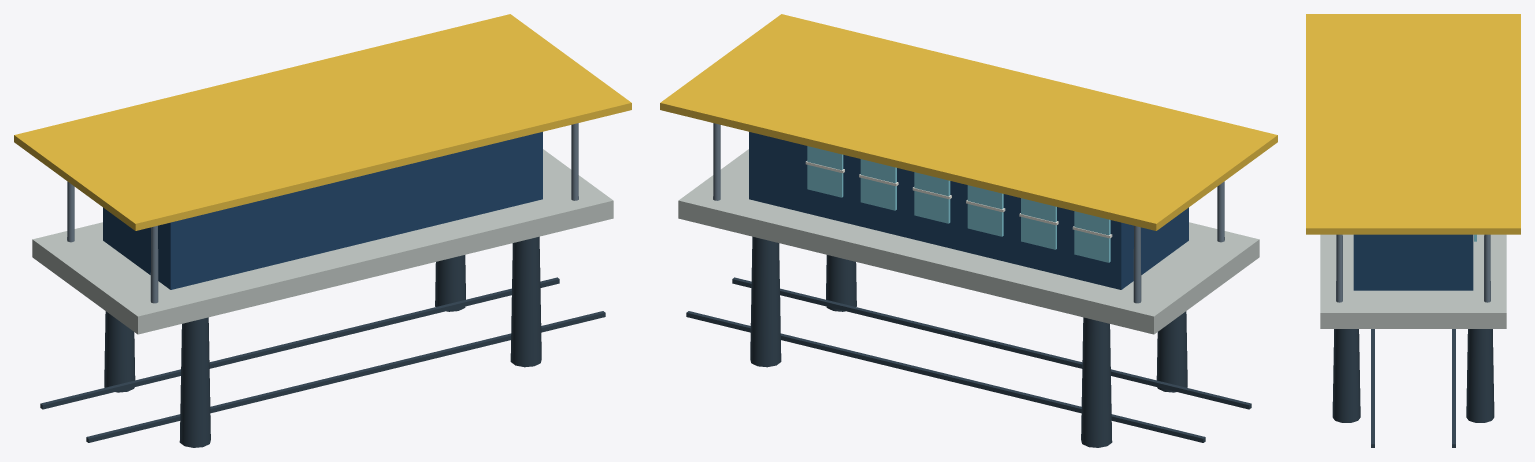
3 views of the same model, side by side, from view 1: azimuth 30°, elevation 25°; view 2: azimuth 150°, elevation 25°; view 3: azimuth 270°, elevation 25° (orthographic). The views are drawn at different scales.
Visible parts, largest first — view 1: platform-roof, station-hall, platform, support-pillar (×4), rail (×2), station-column (×2); view 2: platform-roof, platform, station-hall, support-pillar (×4), window (×6), rail (×2), station-column (×2); view 3: platform-roof, platform, station-hall, support-pillar (×2), station-column (×2), rail (×2).
Part boxes in pixels (<box>): platform-roof: <box>14,14,631,230</box>; station-hall: <box>103,132,542,289</box>; platform: <box>32,149,613,334</box>; support-pillar (×4): <box>104,236,541,447</box>; rail (×2): <box>40,277,605,442</box>; station-column (×2): <box>150,123,578,303</box>; platform-roof: <box>660,14,1277,230</box>; platform: <box>678,149,1259,334</box>; station-hall: <box>749,132,1188,289</box>; support-pillar (×4): <box>750,236,1187,447</box>; window (×6): <box>807,146,1110,262</box>; rail (×2): <box>686,277,1251,442</box>; station-column (×2): <box>713,123,1141,303</box>; platform-roof: <box>1306,14,1520,234</box>; platform: <box>1320,234,1506,328</box>; station-hall: <box>1353,234,1473,290</box>; support-pillar (×2): <box>1332,329,1494,422</box>; station-column (×2): <box>1336,234,1490,302</box>; rail (×2): <box>1371,329,1455,447</box>.
Size of the model in its own units: 15 by 7.05 by 6.1.
